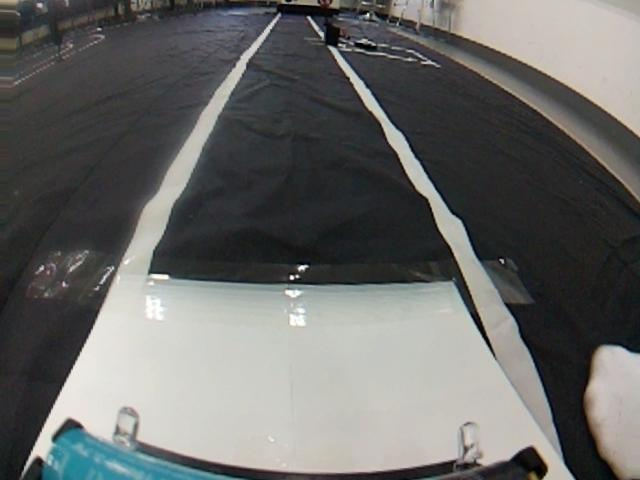hill_down: (4, 256, 640, 480)
